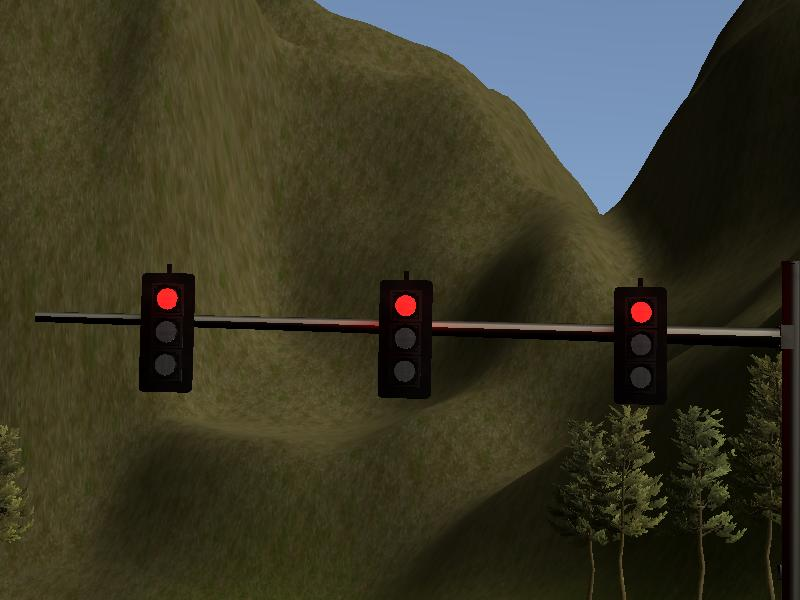red: (139, 271, 194, 393), (377, 277, 432, 399), (613, 285, 668, 407)
